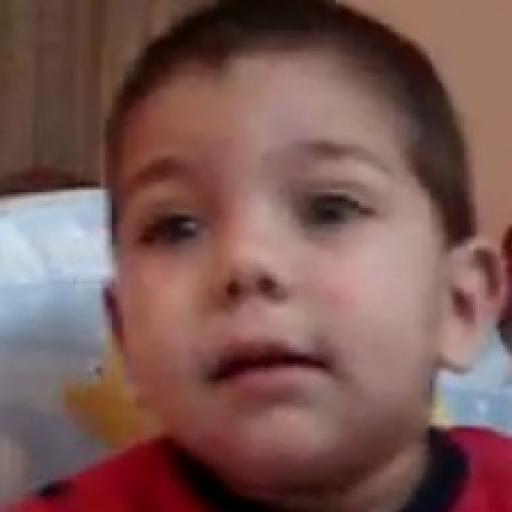Autism: (99, 27, 474, 507)
